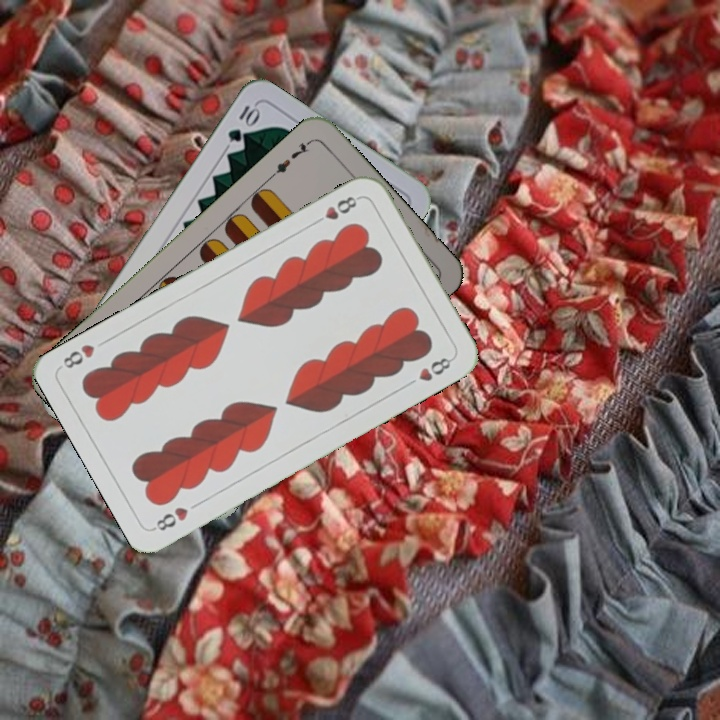E7: (267, 136, 314, 181)
G10: (223, 101, 262, 145)
H8: (309, 192, 363, 228), (149, 503, 191, 534)
